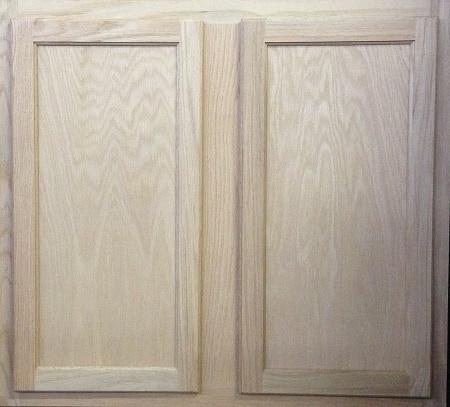cabinet_door: (242, 11, 445, 391), (7, 19, 201, 398)
